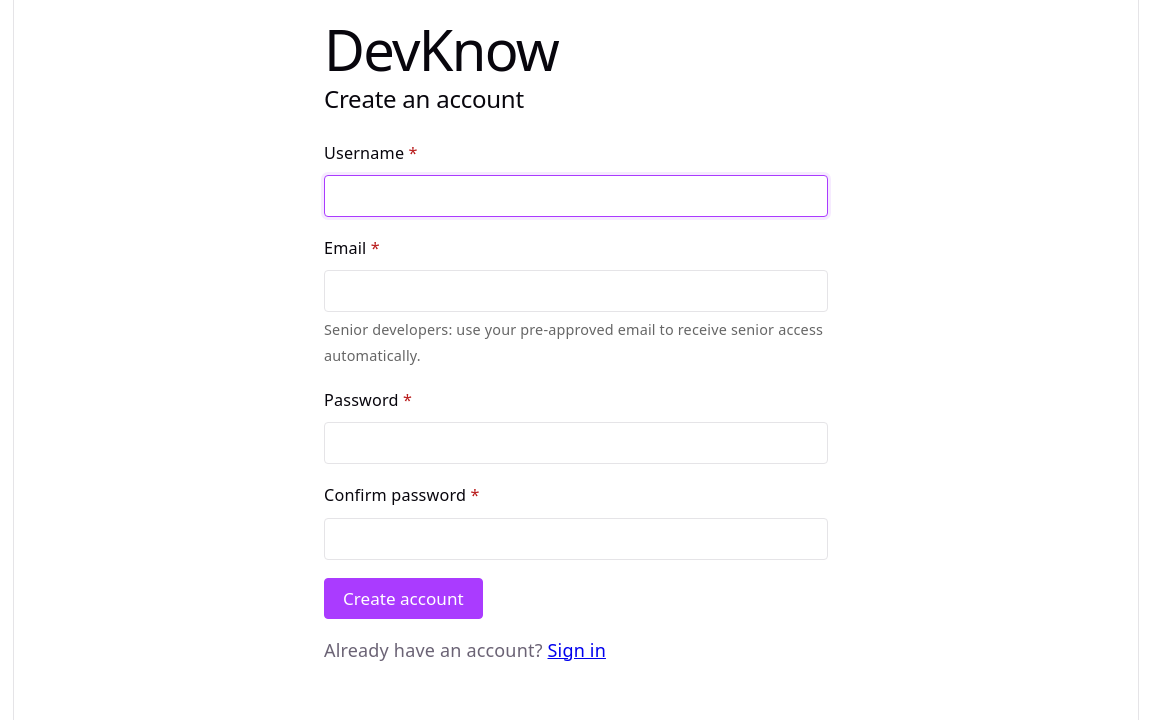
Test: RegisterPage › shows a client-side error for usernames shorter than 3 characters
The width and height of the screenshot is (1152, 720).
Step 1. Type "ab" into the field labelled "Username" → (576, 196), box [324,175,828,217]
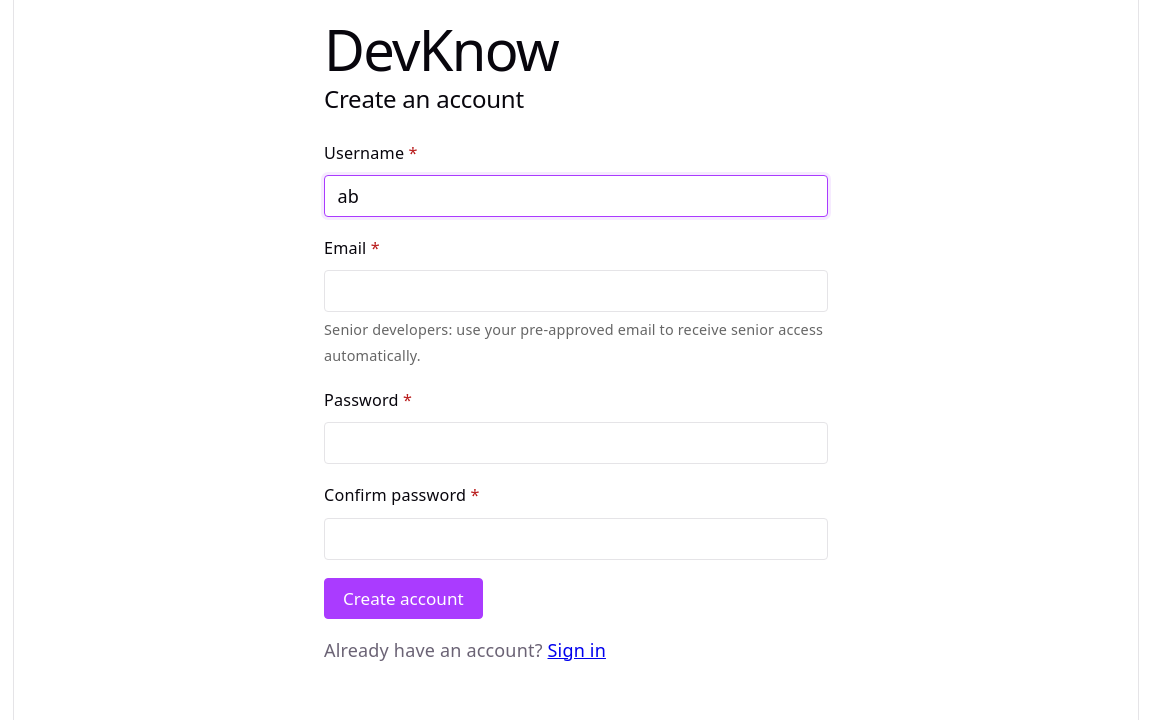
Step 2. Type "short@example.com" into the field labelled "Email" → (576, 291), box [324,270,828,312]
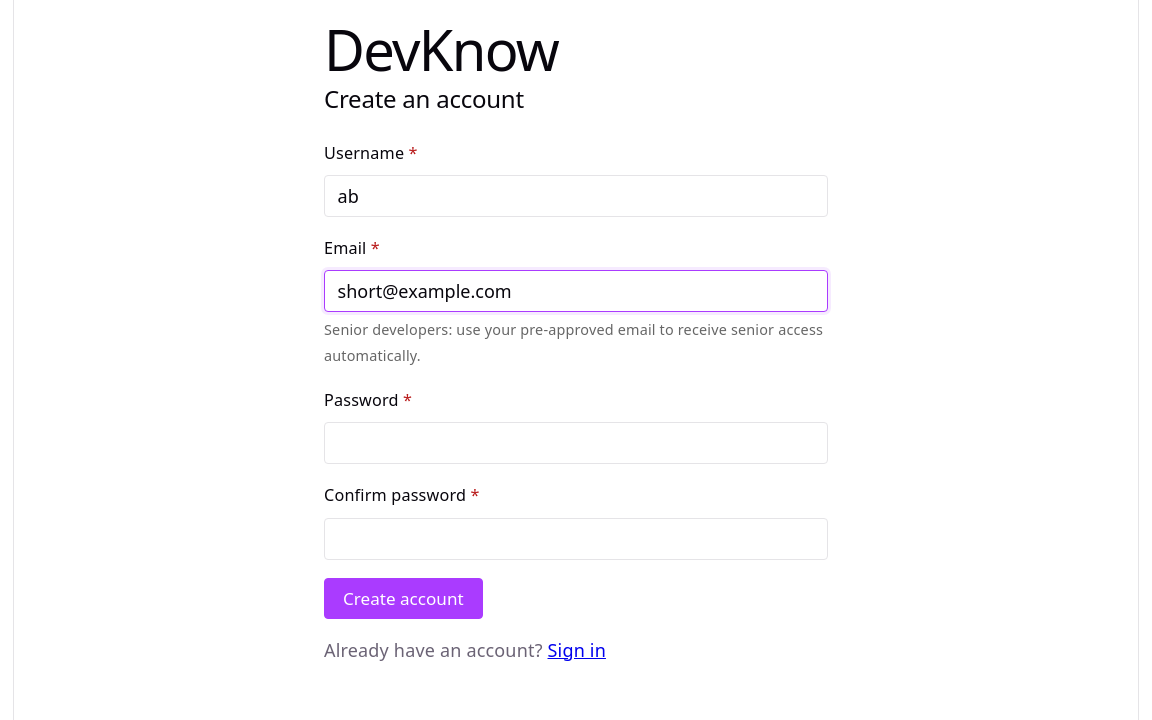
Step 3. Type "securepass1" into the password field labelled "Password" → (576, 443), box [324,422,828,464]
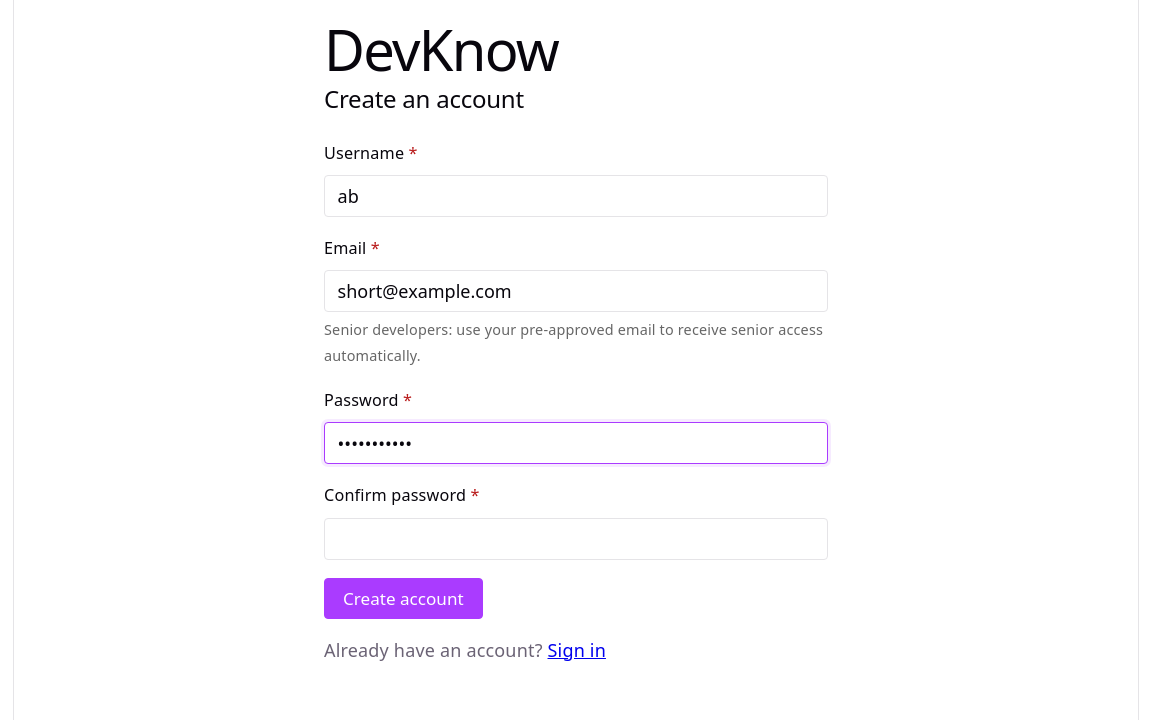
Step 4. Type "securepass1" into the password field labelled "Confirm password" → (576, 539), box [324,518,828,560]
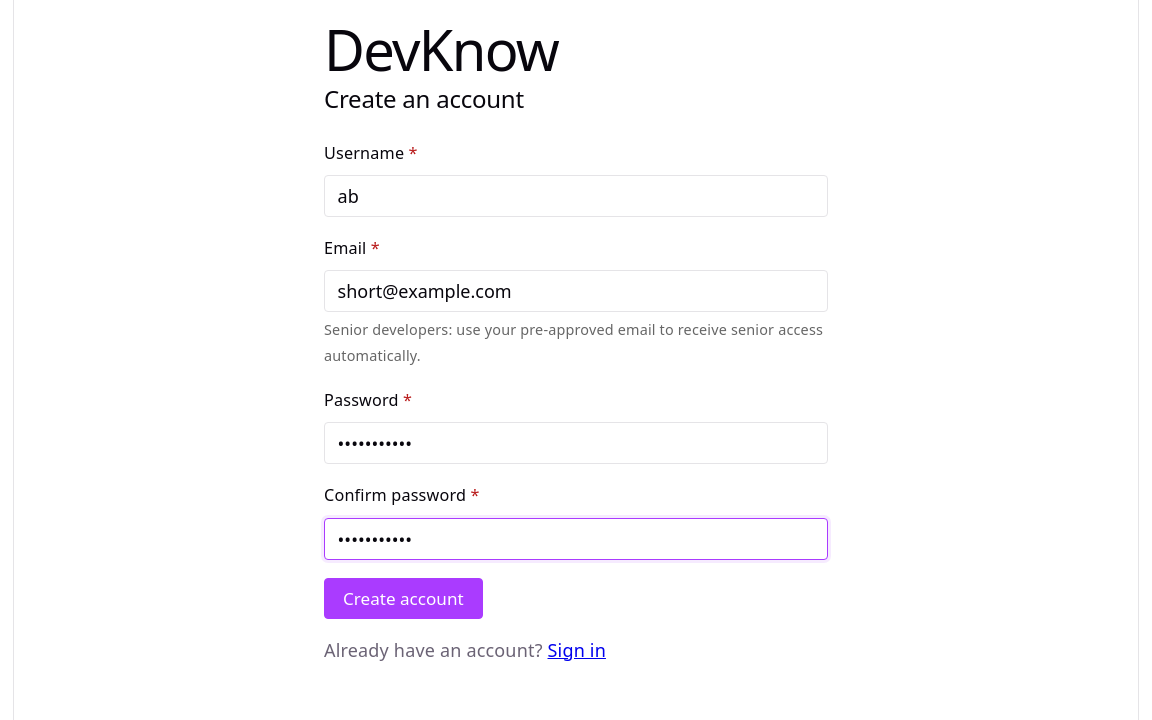
Step 5. Click the button "Create account" → click(403, 598), box [324,578,483,619]
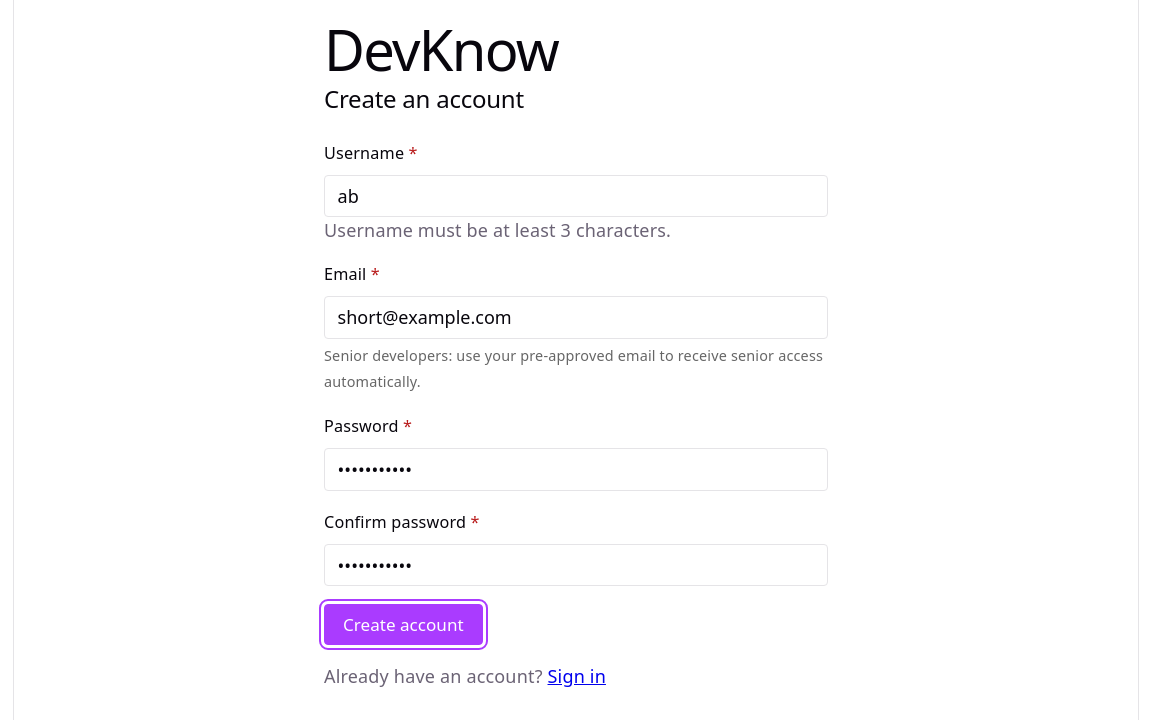
Check: the message reads "Username must be at least 3 characters.", box [324,218,671,242]
